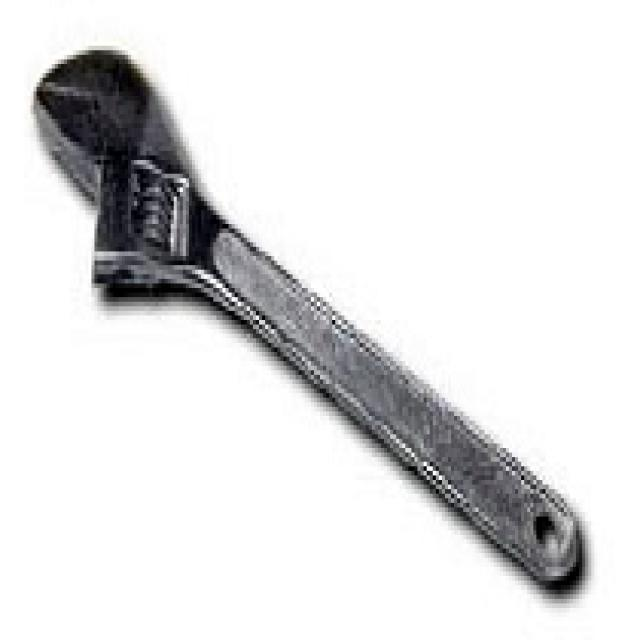wrench: (0, 0, 609, 614)
